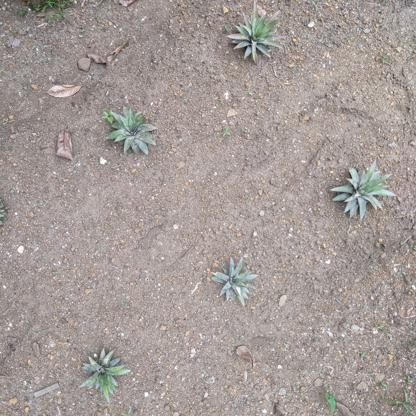pineapple: (327, 158, 398, 225), (225, 13, 288, 65), (99, 105, 158, 160), (80, 346, 132, 404), (209, 256, 260, 310)
